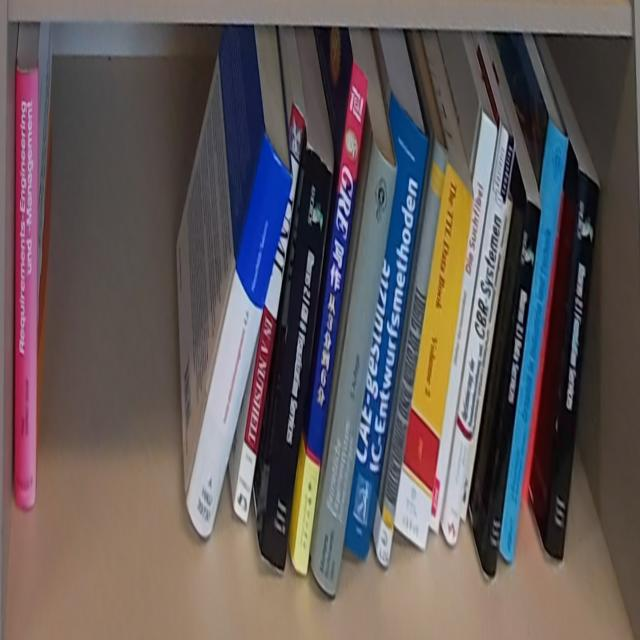Book Spine: (186, 135, 293, 538), (291, 66, 370, 576), (311, 144, 398, 600), (346, 90, 430, 562), (440, 124, 517, 549), (375, 143, 449, 571), (395, 162, 475, 557), (259, 148, 332, 576), (499, 121, 569, 560), (234, 106, 306, 527), (429, 112, 499, 535), (480, 199, 543, 585), (544, 171, 601, 564), (458, 195, 513, 527), (14, 67, 39, 510)
